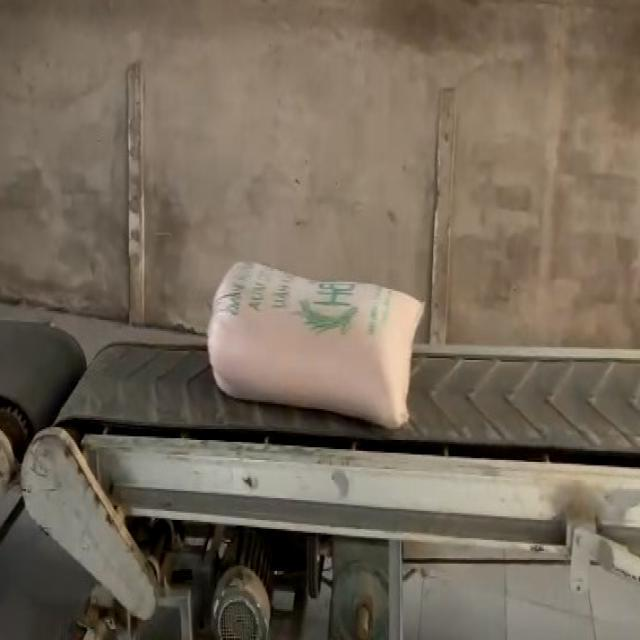gunny_bag: (207, 262, 423, 428)
